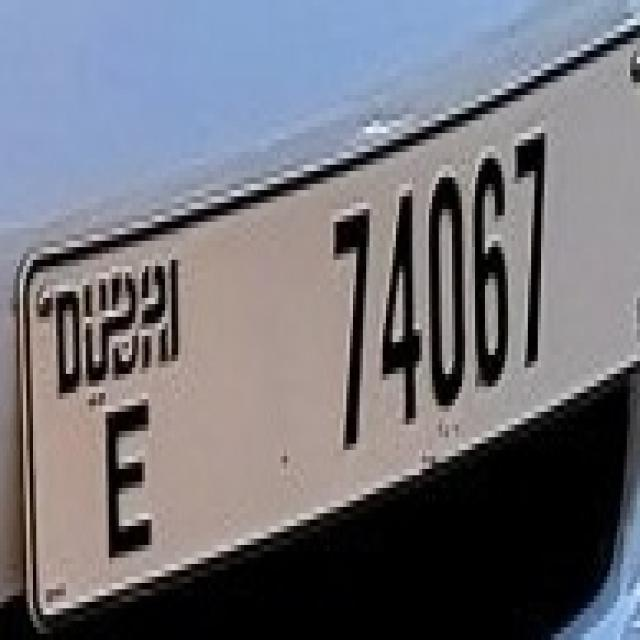0: (419, 158, 465, 400)
1: (498, 114, 558, 368), (316, 184, 372, 450)
4: (369, 164, 429, 424)
6: (458, 140, 512, 380)
D: (46, 272, 79, 393)
E: (89, 387, 162, 558)
